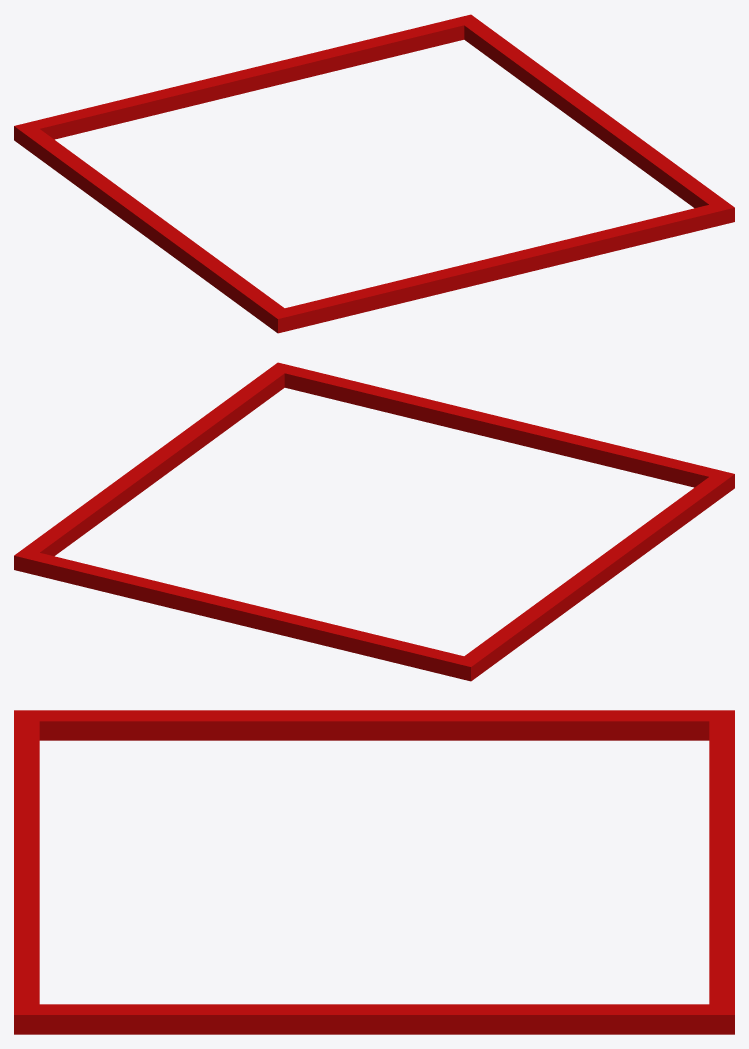
The model's file is highlight.obj.
The picture shows the model from 3 angles, top to bottom: view 1: azimuth 30°, elevation 25°; view 2: azimuth 150°, elevation 25°; view 3: azimuth 270°, elevation 25°; orthographic projection. The views are drawn at different scales.
Parts seen in each view (by area): view 1: Plane_Plane.001; view 2: Plane_Plane.001; view 3: Plane_Plane.001.
Part boxes in pixels (box(x1,y1,x2,y2)): Plane_Plane.001: box(14, 14, 734, 333); Plane_Plane.001: box(14, 362, 734, 681); Plane_Plane.001: box(14, 710, 734, 1034).
Bounding box in the file's own units: 2 × 0.06 × 2.
